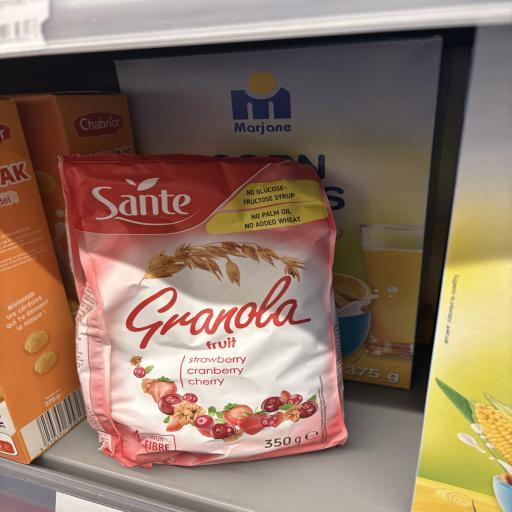granola: (25, 127, 411, 512)
